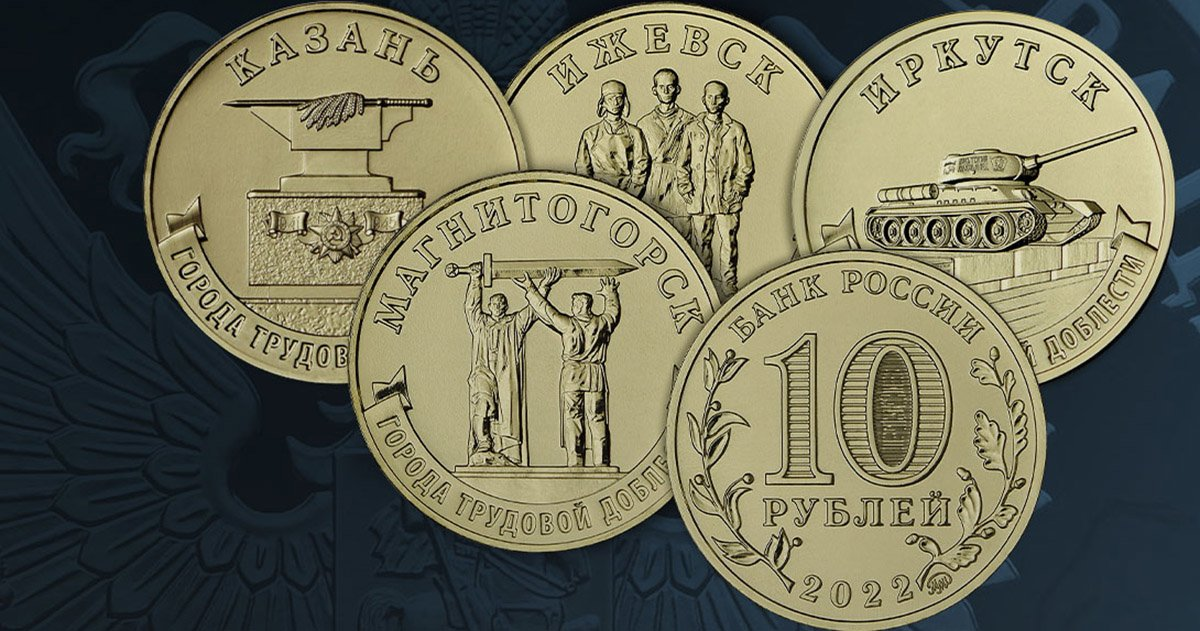coin: (141, 4, 529, 383), (667, 249, 1049, 631), (792, 10, 1178, 387), (346, 169, 720, 553), (510, 7, 827, 294)
